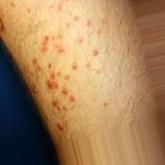Ants: (28, 58, 44, 73), (70, 14, 85, 30), (49, 70, 70, 81), (38, 35, 50, 52), (56, 45, 67, 56), (66, 93, 77, 103), (46, 60, 56, 70), (87, 20, 95, 32), (47, 78, 55, 88), (55, 121, 63, 131), (71, 62, 79, 71), (60, 87, 68, 95), (30, 88, 40, 94), (92, 49, 99, 56), (51, 100, 57, 106)
